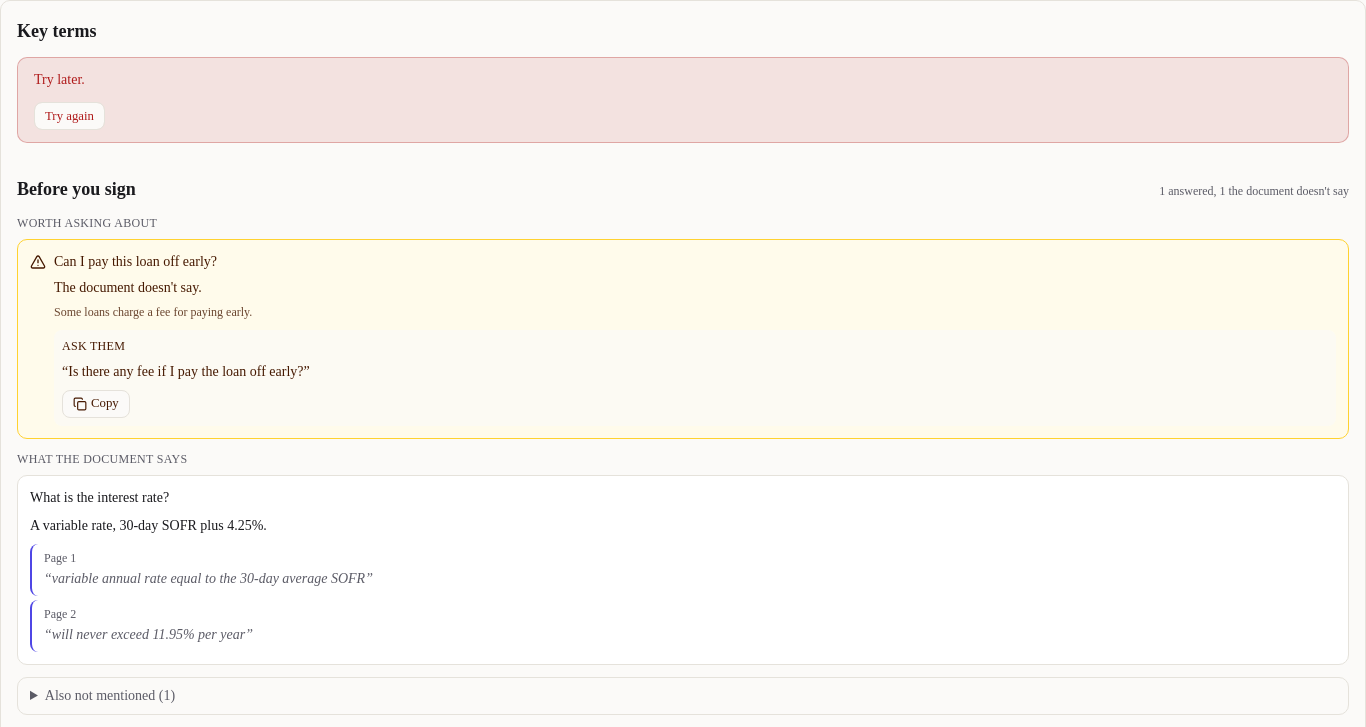
Test: OverviewPanel when something fails › shows loading again while a retry is running
Click the button "Try again". click: (70, 116)
box: x1=34 y1=102 x2=105 y2=130
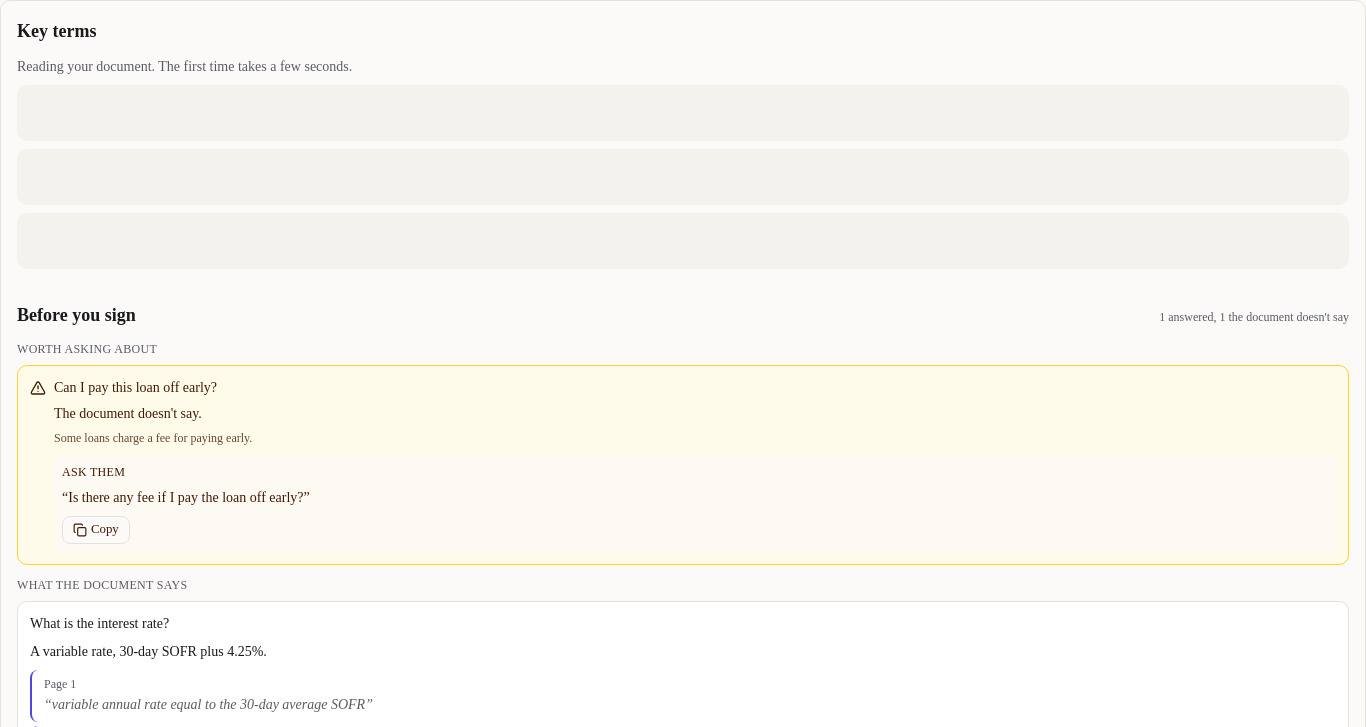
Expected: the message "Reading your document. The first time takes a few seconds." is shown, x1=17 y1=57 x2=1349 y2=269
